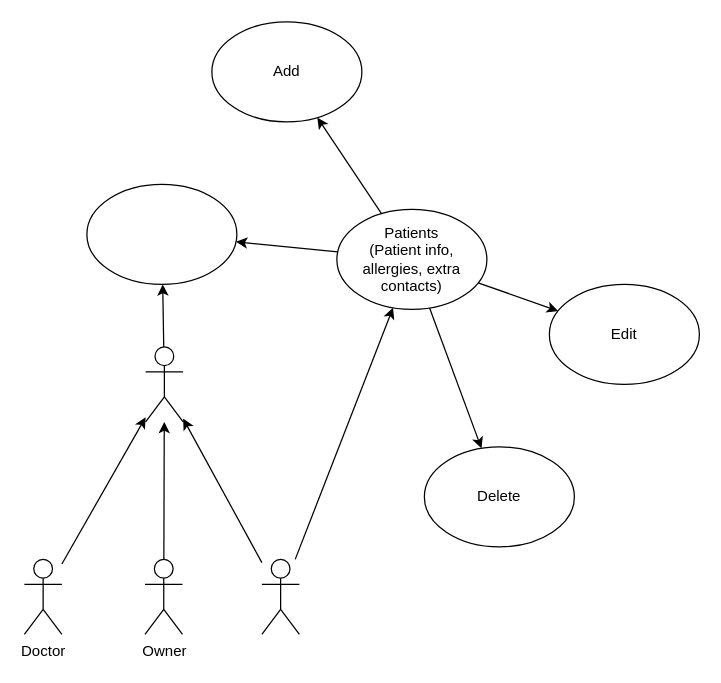
This 721x683 diagram has some shape labels left out. The shapes that lost their labels are listed below. From the top down, each one's box as (x1, y1, x2, y2) in pixels, then its label:
(86, 183, 237, 284): View
(144, 346, 183, 422): Clinic user
(261, 558, 299, 634): Admininstrator
